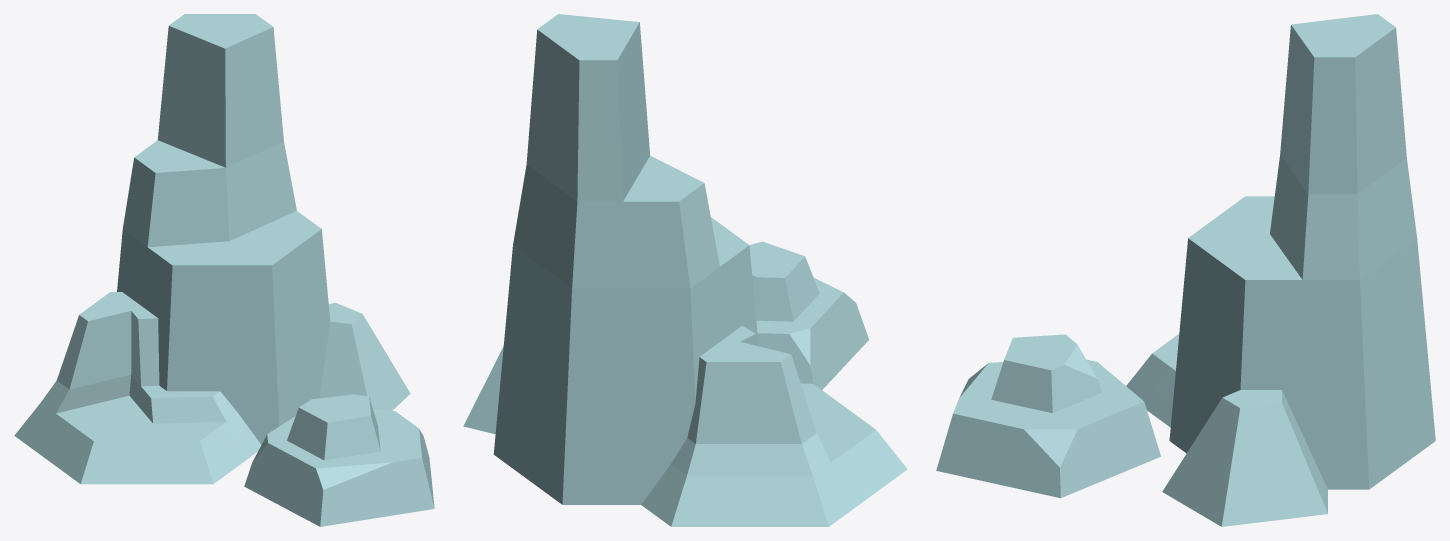
Rendered from Rocks 1.fbx.
The picture shows the model from 3 angles, left to right: view 1: azimuth 30°, elevation 25°; view 2: azimuth 150°, elevation 25°; view 3: azimuth 270°, elevation 25°; orthographic projection. The views are drawn at different scales.
Parts seen in each view (by area): view 1: stone_tallA, stone_smallTopA; view 2: stone_tallA, stone_smallTopA; view 3: stone_tallA, stone_smallTopA.
Boxes of the visible parts, x1=… form: stone_tallA: x1=14, y1=14, x2=410, y2=484; stone_smallTopA: x1=244, y1=394, x2=434, y2=526; stone_tallA: x1=463, y1=14, x2=907, y2=526; stone_smallTopA: x1=749, y1=241, x2=869, y2=389; stone_tallA: x1=1126, y1=14, x2=1435, y2=526; stone_smallTopA: x1=936, y1=334, x2=1160, y2=498.
Bounding box in the file's own units: 9.83 × 9.96 × 10.86.
